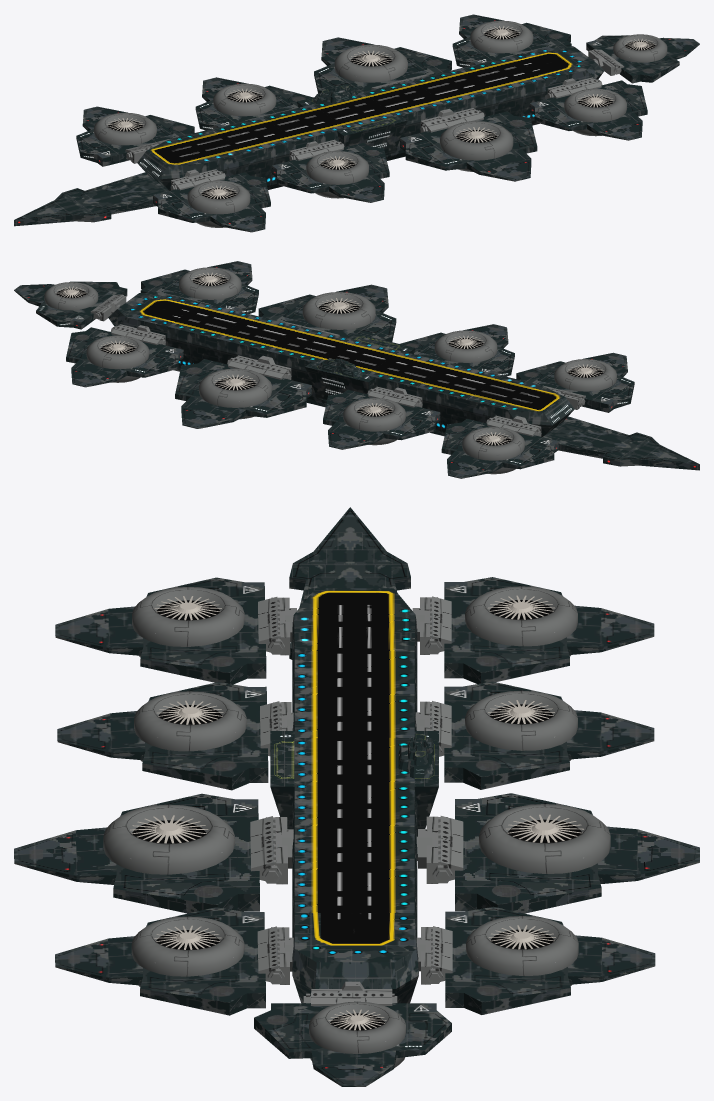
3 renders of one model, top to bottom at view 1: azimuth 30°, elevation 25°; view 2: azimuth 150°, elevation 25°; view 3: azimuth 270°, elevation 25°, orthographic. The views are drawn at different scales.
Parts seen in each view (by area): view 1: Civilian_Platform; view 2: Civilian_Platform; view 3: Civilian_Platform.
Part boxes in pixels (x1,y1,x2,y2): Civilian_Platform: [14, 14, 699, 232]; Civilian_Platform: [14, 261, 699, 478]; Civilian_Platform: [14, 507, 699, 1086].
Size of the model in its own units: 2 by 0.161 by 0.9687.
Materials: 1 (1 with a texture image).
